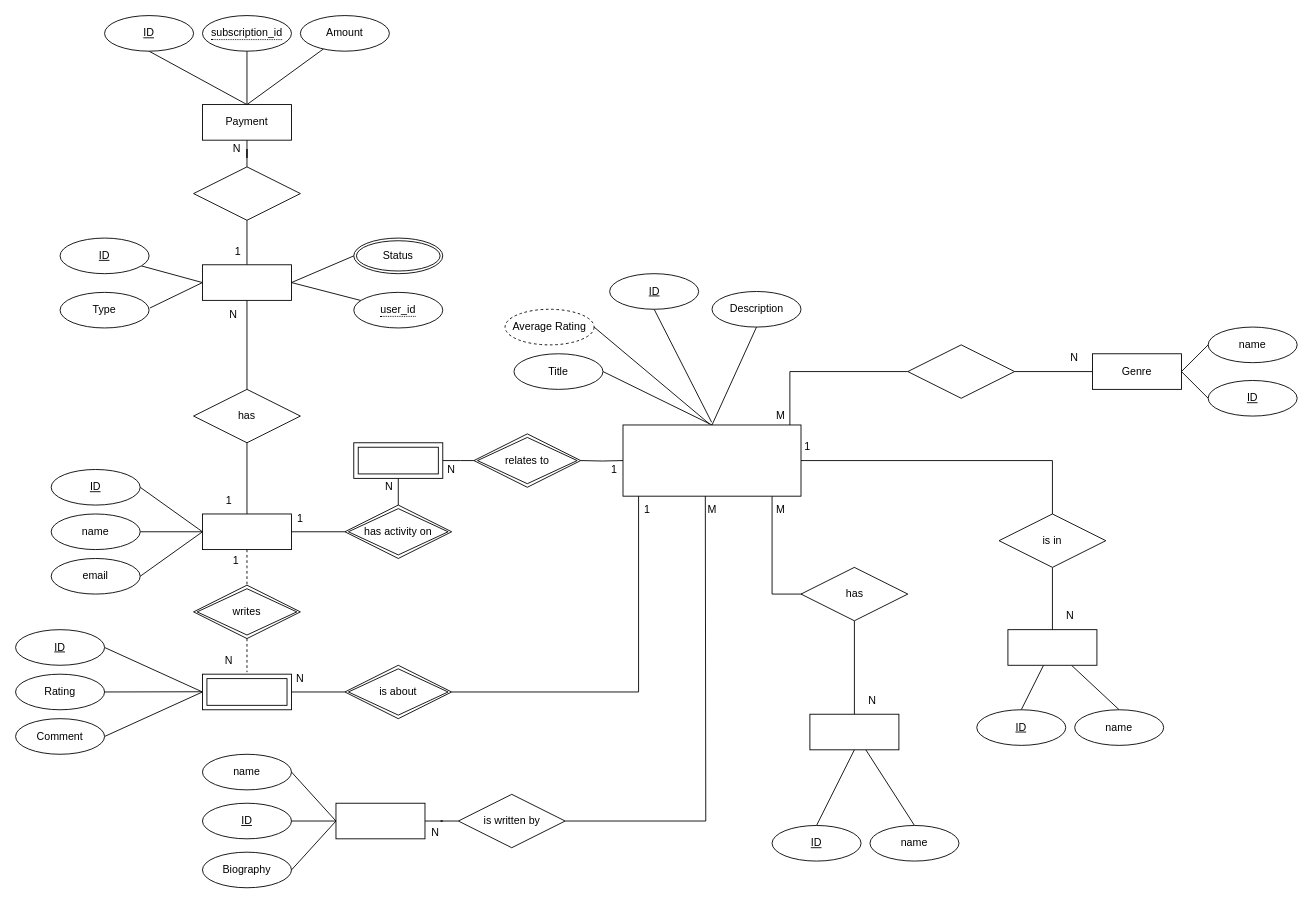
Some shapes in this 1313 by 903 pixel diagram are drawn without their labels. Each missing label, with the box of its shape:
Author: (335, 802, 425, 839)
Book: (622, 424, 801, 496)
Format: (809, 713, 899, 750)
is classified as: (907, 344, 1015, 398)
is paid by: (193, 166, 300, 220)
Language: (1007, 629, 1097, 665)
Review: (202, 673, 291, 710)
Subscription: (202, 264, 291, 300)
User: (202, 513, 291, 550)
UserActivity: (353, 442, 443, 478)
